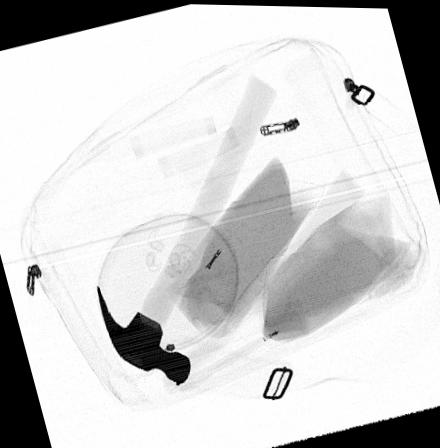Hammer: (95, 72, 279, 384)
